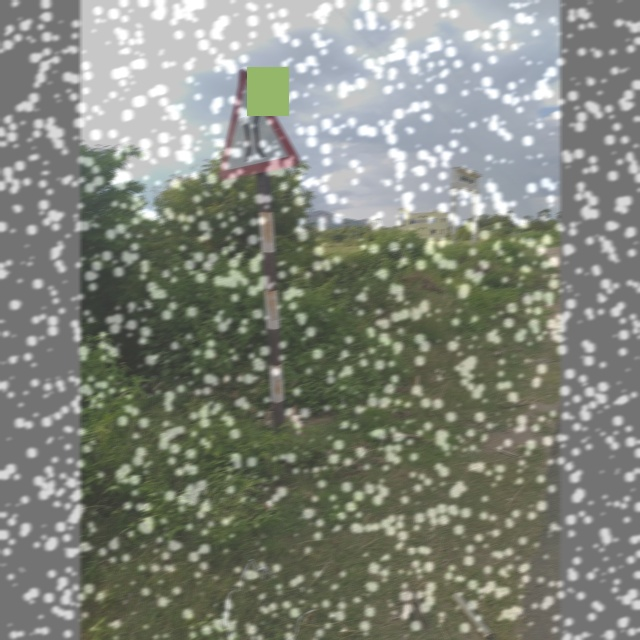Narrow_Bridge: (208, 63, 308, 177)
